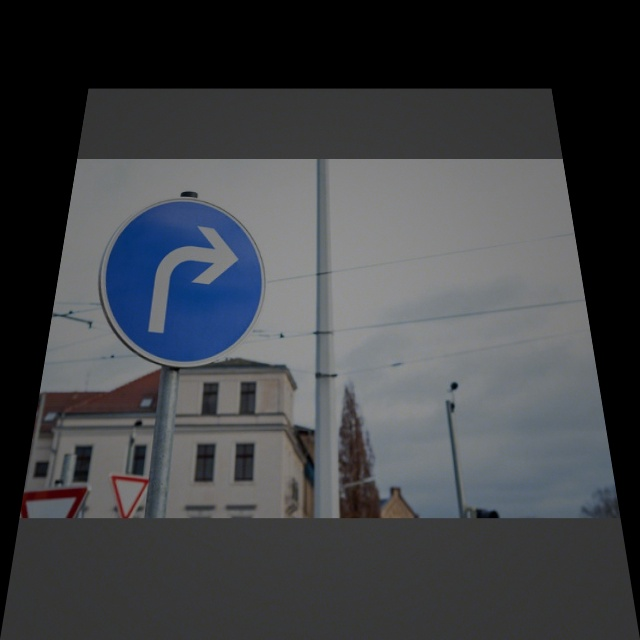Compulsory_Turn_Right_Ahead: (89, 196, 263, 369)
